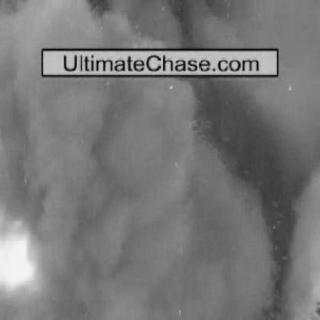Fire: (3, 196, 42, 296)
